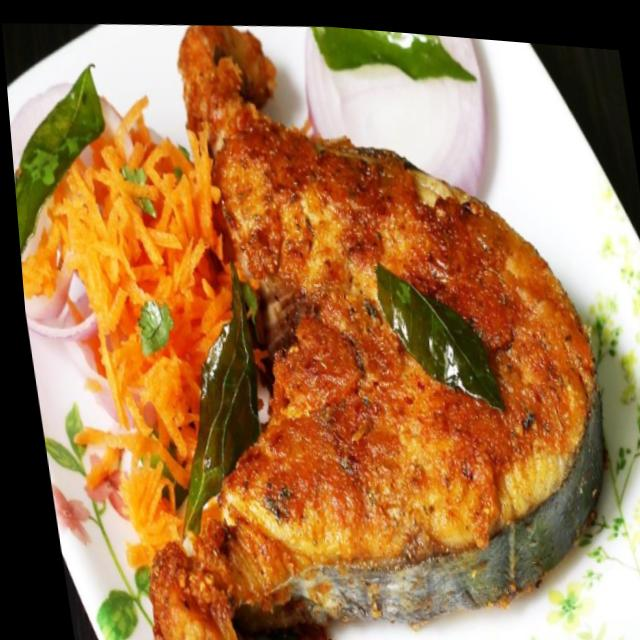FISH FRY: (136, 107, 605, 640)
